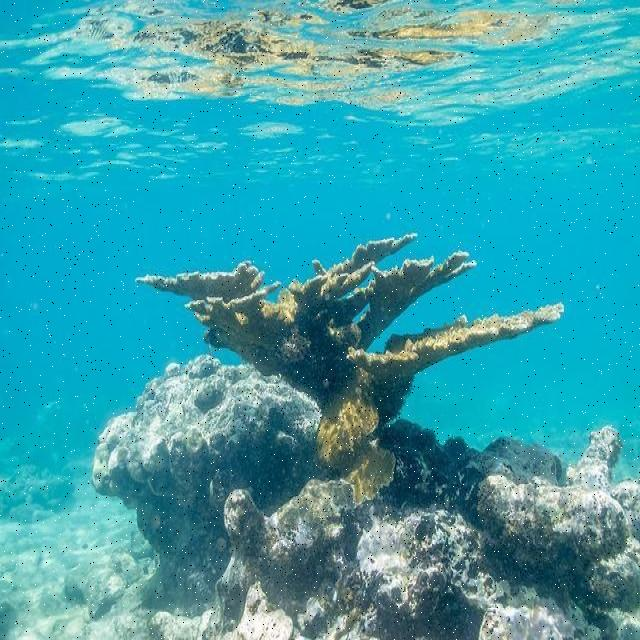reefs: (127, 228, 565, 502)
